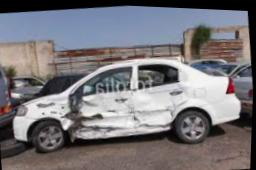Door: (64, 61, 191, 143)
Fender: (177, 63, 227, 104), (27, 91, 71, 120)
